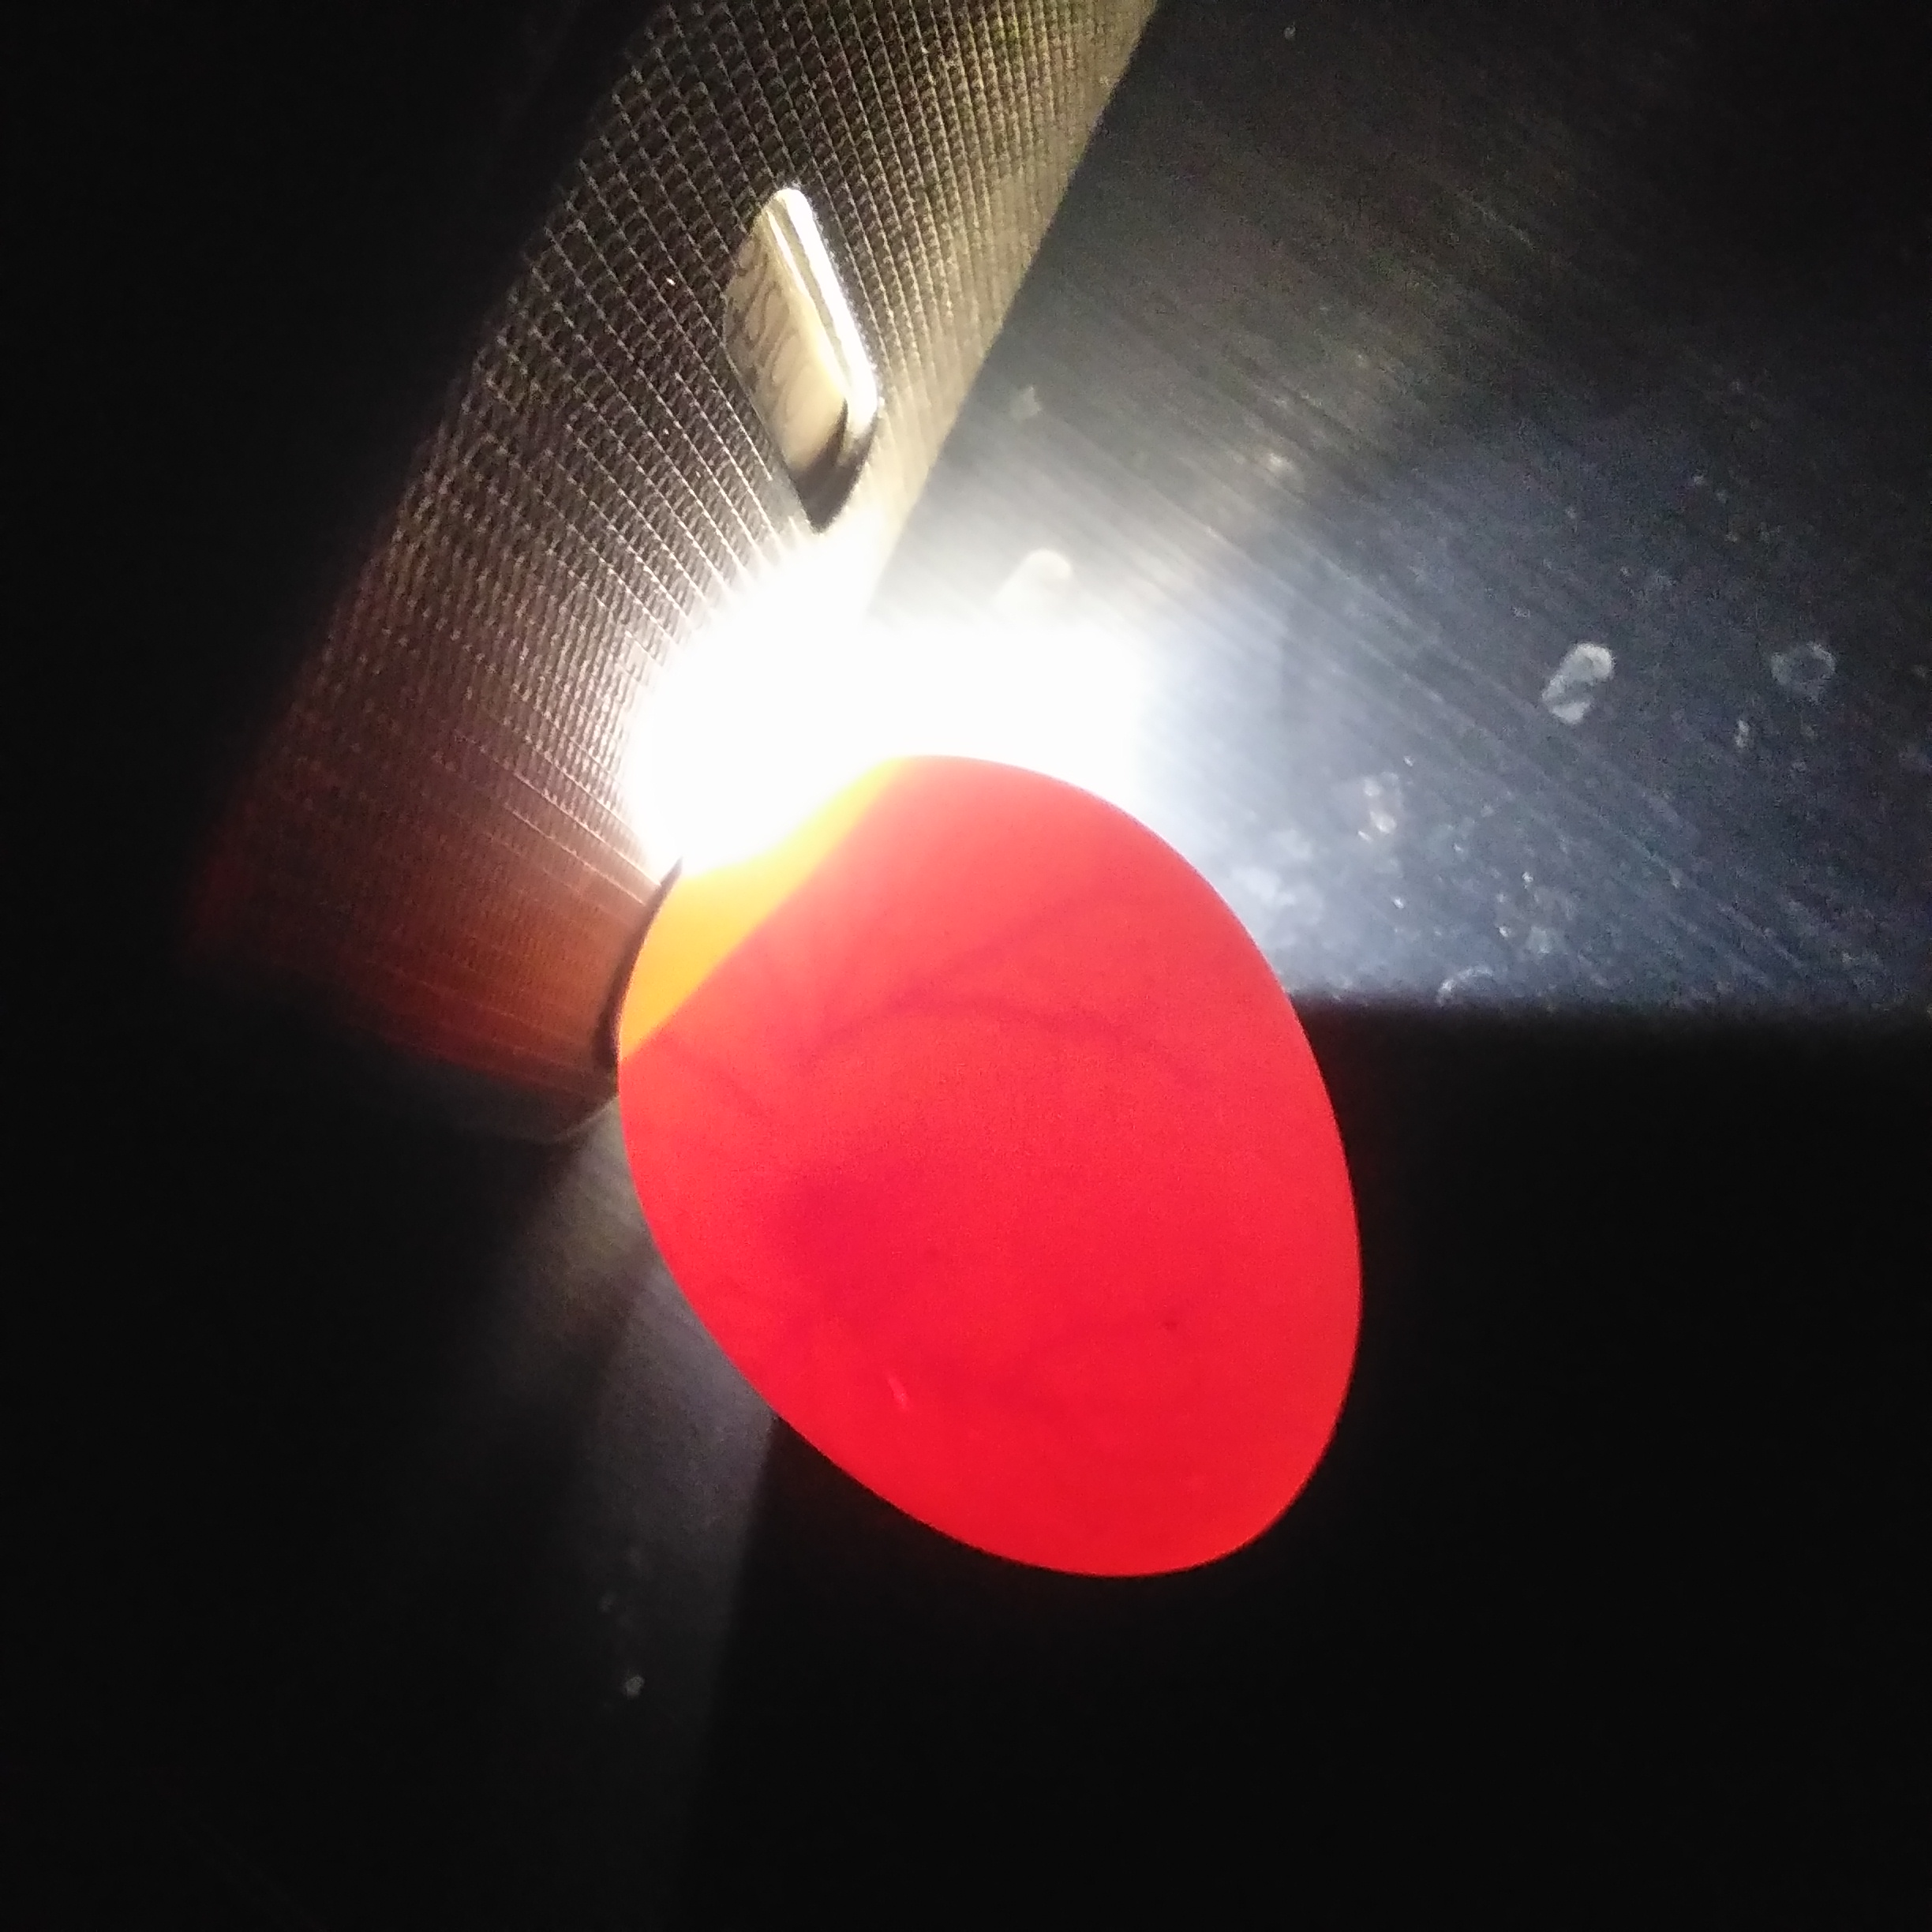bloodcell: (934, 897, 1260, 1453), (690, 1007, 870, 1106)
embryo: (754, 1171, 920, 1332)
